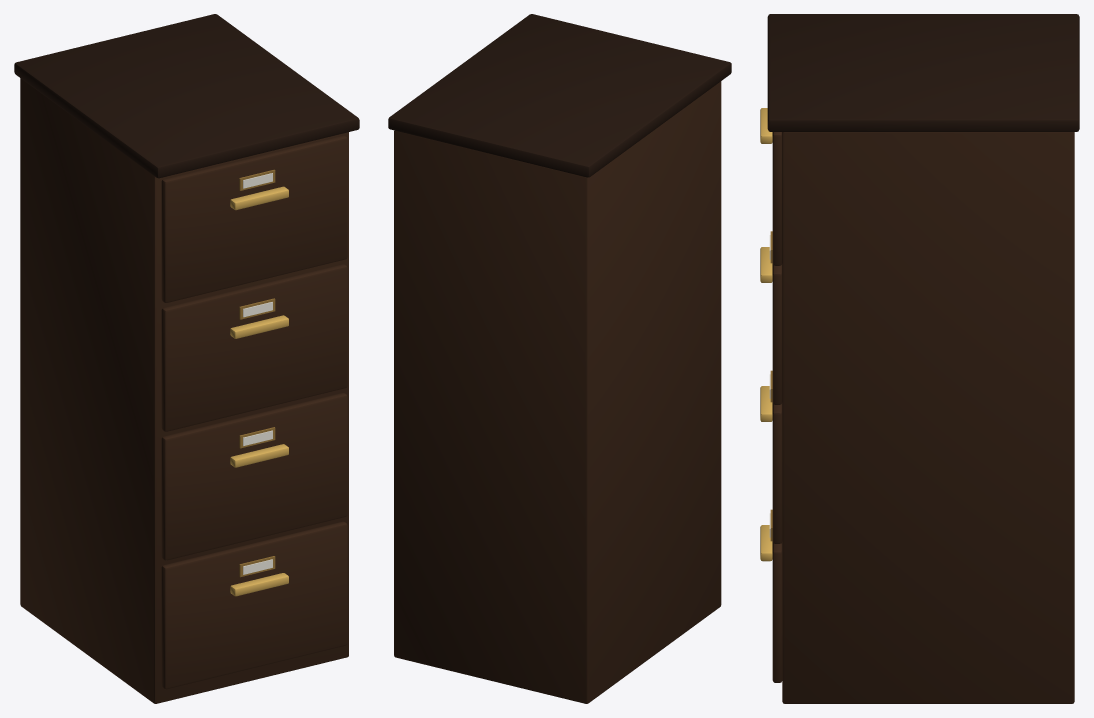
The model's file is meridian_file_cabinet.glb.
3 renders of one model, left to right at view 1: azimuth 30°, elevation 25°; view 2: azimuth 150°, elevation 25°; view 3: azimuth 270°, elevation 25°, orthographic. The views are drawn at different scales.
Parts seen in each view (by area): view 1: meridian_file_cabinet; view 2: meridian_file_cabinet; view 3: meridian_file_cabinet.
Boxes of the visible parts, x1,y1,x2,y2 form: meridian_file_cabinet: [14, 14, 359, 703]; meridian_file_cabinet: [388, 14, 731, 703]; meridian_file_cabinet: [760, 14, 1079, 703].
Size of the model in its own units: 0.52 by 1.33 by 0.655.
